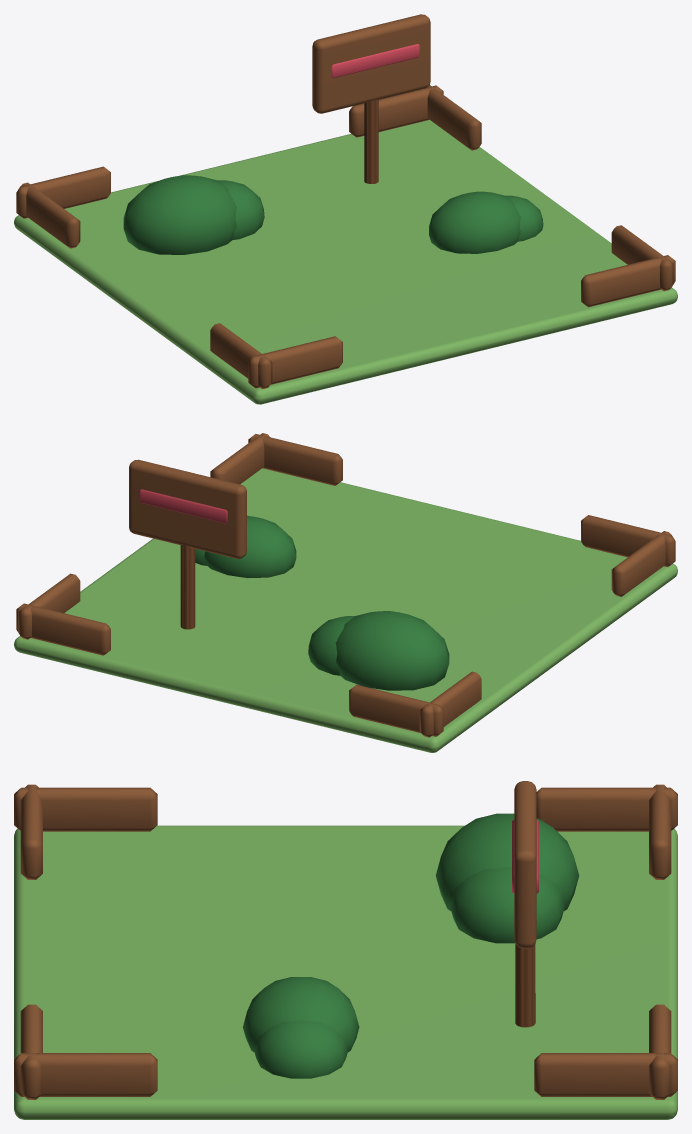
The model's file is lot.glb.
The picture shows the model from 3 angles, top to bottom: view 1: azimuth 30°, elevation 25°; view 2: azimuth 150°, elevation 25°; view 3: azimuth 270°, elevation 25°; orthographic projection. The views are drawn at different scales.
Visible parts, largest first — view 1: Cube; view 2: Cube; view 3: Cube.
Part boxes in pixels (box(x1,y1,x2,y2)): Cube: box(14, 14, 677, 404); Cube: box(14, 433, 677, 752); Cube: box(14, 781, 677, 1119).
Bounding box in the file's own units: 0.74 × 0.296 × 0.74.
